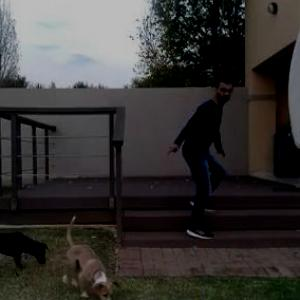land: (164, 74, 238, 237)
